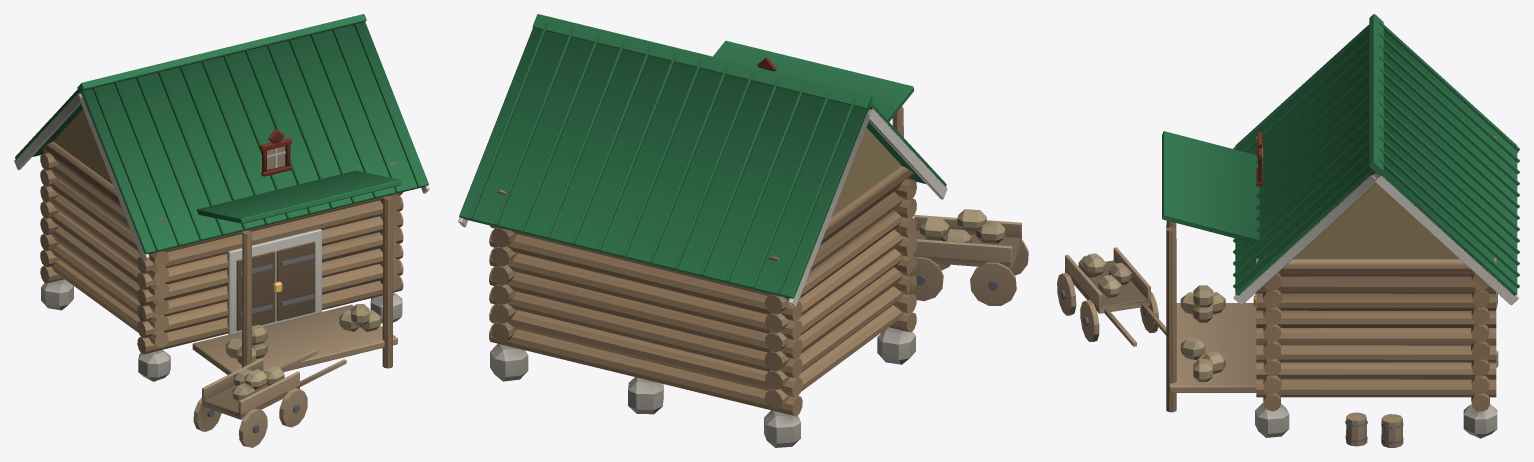
File: bld_ambar_e2.glb
3 views of the same model, side by side, from view 1: azimuth 30°, elevation 25°; view 2: azimuth 150°, elevation 25°; view 3: azimuth 270°, elevation 25° (orthographic). The views are drawn at different scales.
Visible parts, largest first — view 1: ambar; view 2: ambar; view 3: ambar.
Boxes of the visible parts, <box> form: ambar: <box>14,14,429,447</box>; ambar: <box>458,14,1028,447</box>; ambar: <box>1057,14,1519,447</box>.
Size of the model in its own units: 1.82 by 1.59 by 2.33.
